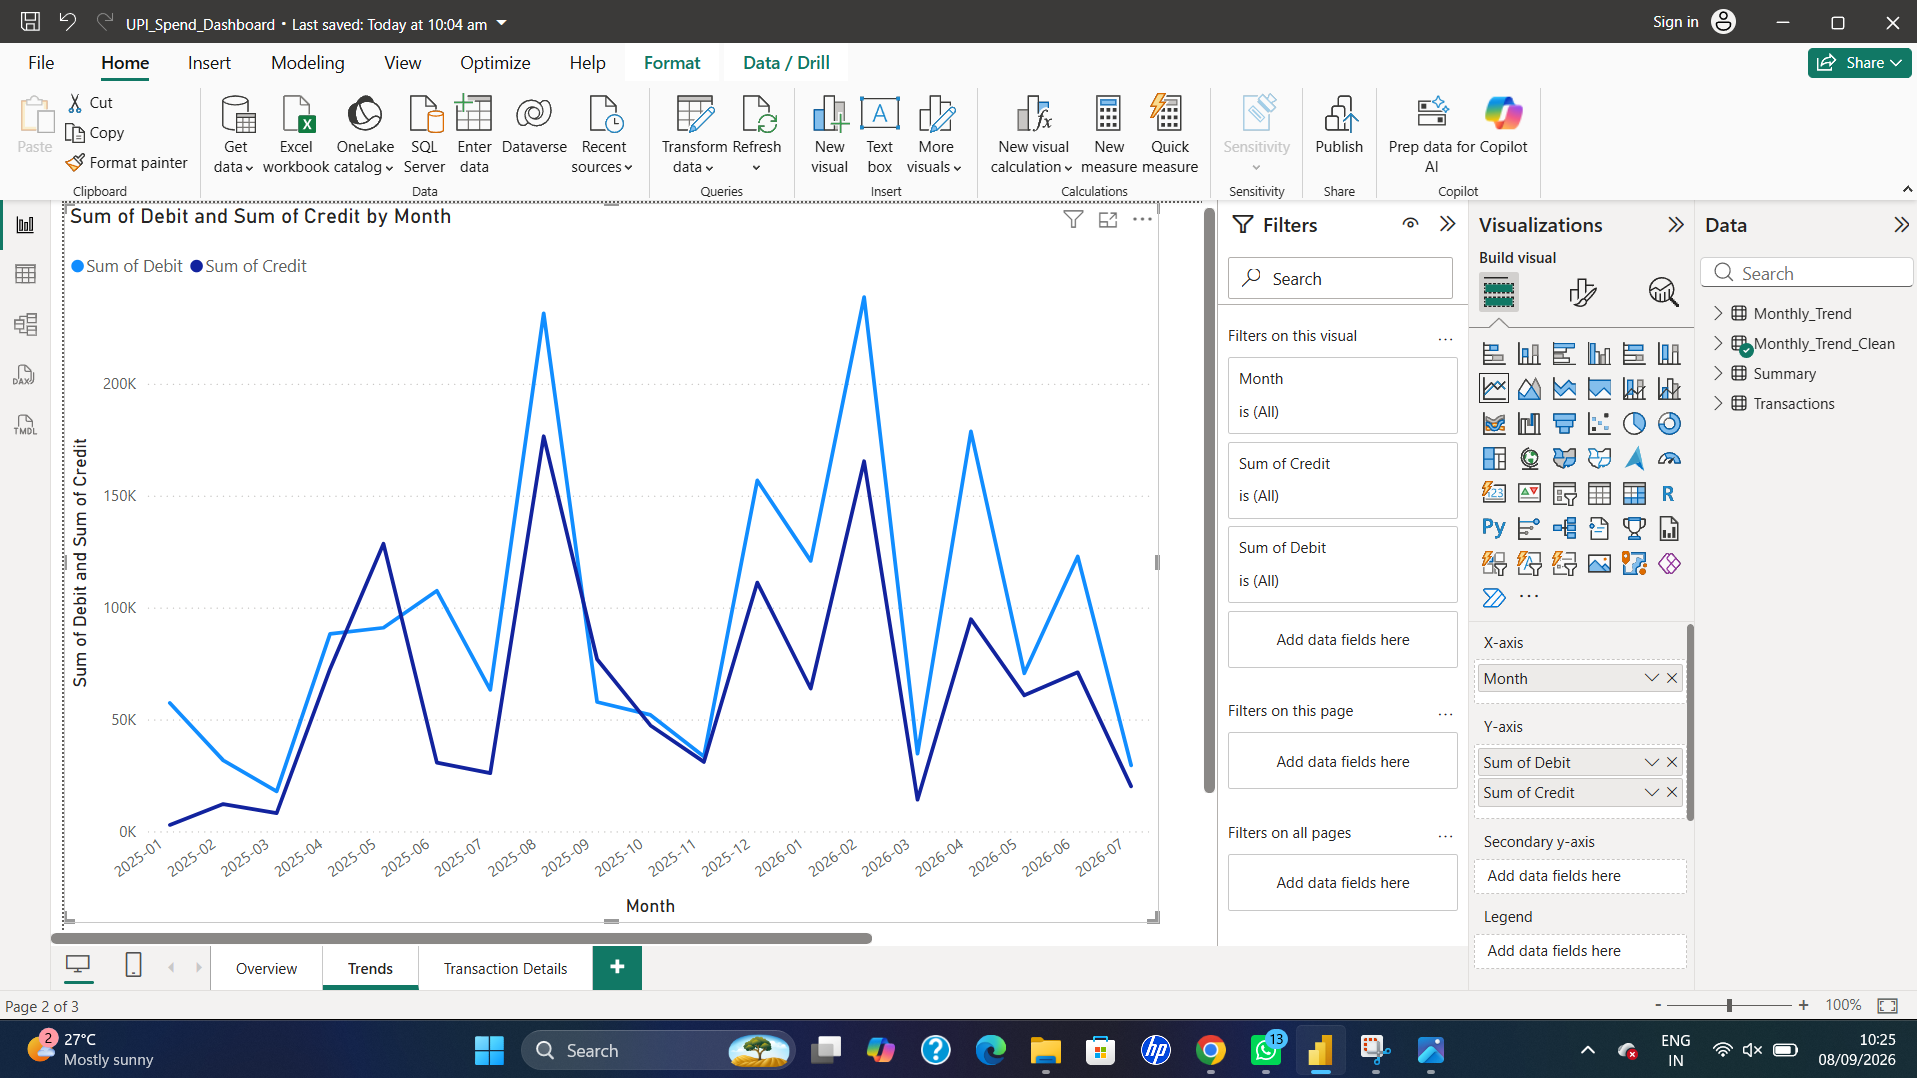

The page's visual inventory and layout, read from the dashboard file:
{"tool":"powerbi","page":{"name":"Trends","canvas":[1280,720],"ordinal":1},"visuals":[{"type":"lineChart","fields":{"Y":["Sum(Monthly_Trend_Clean.Debit)","Sum(Monthly_Trend_Clean.Credit)"],"Category":["Monthly_Trend_Clean.Month"]},"box":[0,0,544.8,437.7],"z":0}]}

Visuals, with their boxes on the page's 1280x720 design canvas (x1, y1, x2, y2). These are canvas units, not pixel positions in the 1917x1078 screenshot, which may show the page scaled, cropped or inside an application window:
lineChart - Sum(Monthly_Trend_Clean.Debit) x Sum(Monthly_Trend_Clean.Credit): locate(0, 0, 545, 438)
